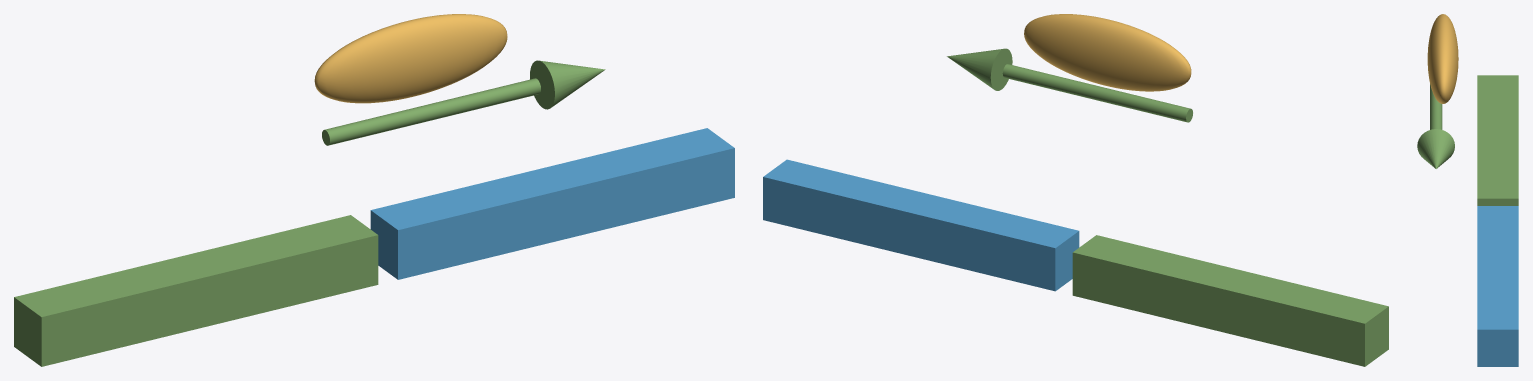
File: biology-animals-habitat-adaptation.glb
The picture shows the model from 3 angles, left to right: view 1: azimuth 30°, elevation 25°; view 2: azimuth 150°, elevation 25°; view 3: azimuth 270°, elevation 25°; orthographic projection. The views are drawn at different scales.
Parts seen in each view (by area): view 1: branch-habitat, pond-habitat, beak-or-foot-trait, habitat-fit-test-shaft, habitat-fit-test-head; view 2: branch-habitat, pond-habitat, beak-or-foot-trait, habitat-fit-test-shaft, habitat-fit-test-head; view 3: pond-habitat, branch-habitat, beak-or-foot-trait, habitat-fit-test-head, habitat-fit-test-shaft.
Boxes of the visible parts, x1=… form: branch-habitat: x1=14, y1=215, x2=378, y2=366; pond-habitat: x1=370, y1=128, x2=734, y2=279; beak-or-foot-trait: x1=314, y1=14, x2=507, y2=103; habitat-fit-test-shaft: x1=322, y1=78, x2=540, y2=145; habitat-fit-test-head: x1=530, y1=60, x2=605, y2=109; branch-habitat: x1=1072, y1=235, x2=1388, y2=366; pond-habitat: x1=763, y1=159, x2=1079, y2=291; beak-or-foot-trait: x1=1024, y1=14, x2=1191, y2=91; habitat-fit-test-shaft: x1=1002, y1=64, x2=1192, y2=122; habitat-fit-test-head: x1=947, y1=48, x2=1012, y2=90; pond-habitat: x1=1477, y1=206, x2=1518, y2=366; branch-habitat: x1=1477, y1=75, x2=1518, y2=205; beak-or-foot-trait: x1=1427, y1=14, x2=1458, y2=103; habitat-fit-test-head: x1=1417, y1=129, x2=1454, y2=168; habitat-fit-test-shaft: x1=1430, y1=84, x2=1442, y2=129.
Size of what is drawn, in the model's own units: 1.75 by 0.67 by 0.295.
